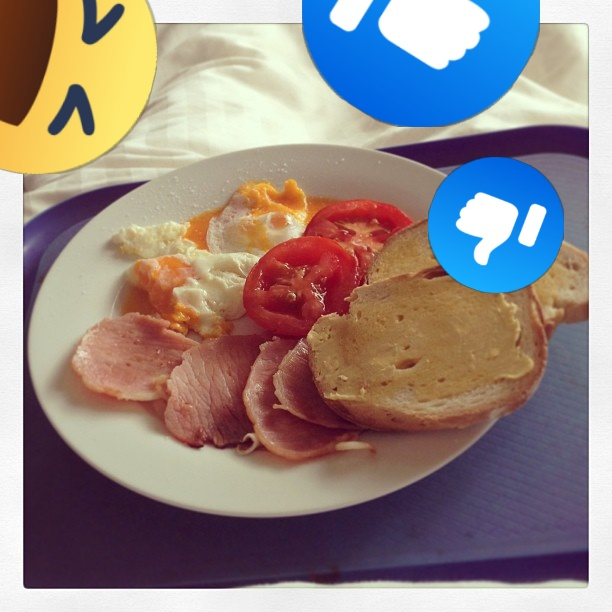haha: (0, 0, 157, 174)
like: (302, 0, 540, 127), (428, 157, 564, 293)
